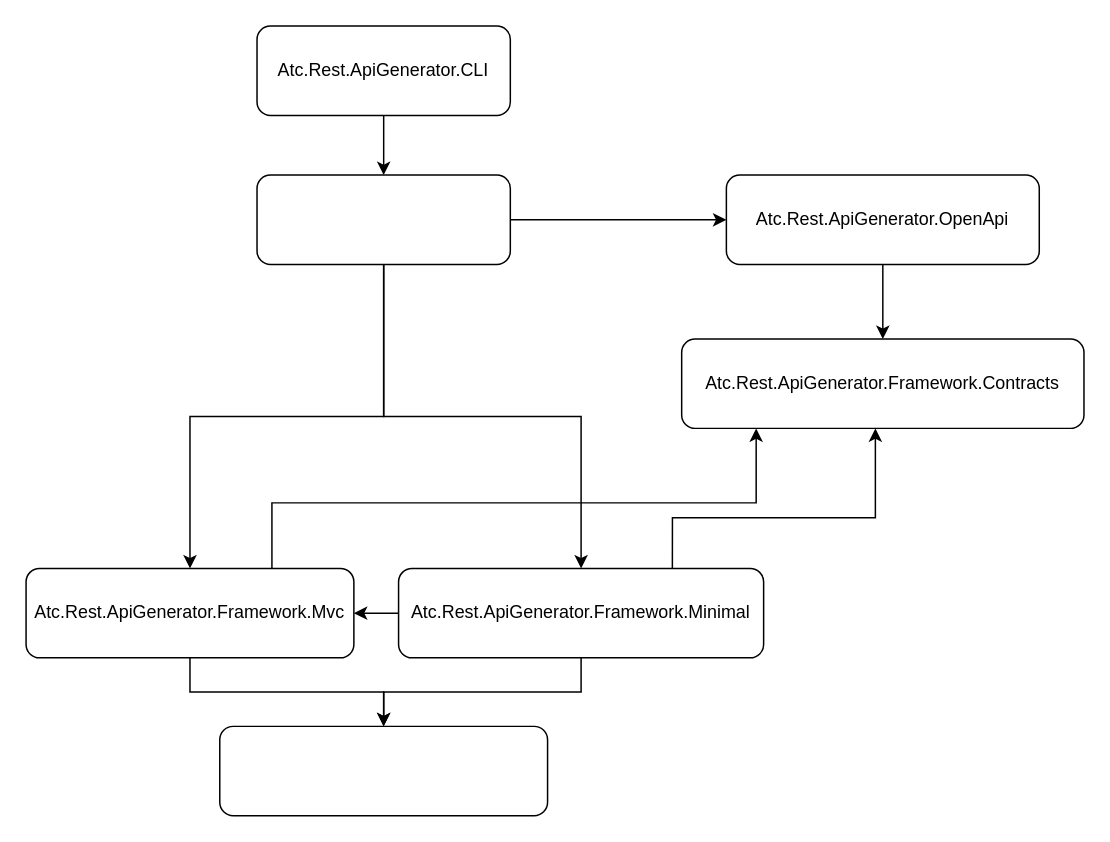
The diagram is 1110 pixels wide and 842 high, and some of its shapes have lost their labels. Each missing label, with the box of its shape:
Atc.Rest.ApiGenerator: (256, 174, 510, 264)
Atc.Rest.ApiGenerator.Framework: (218, 725, 548, 816)
